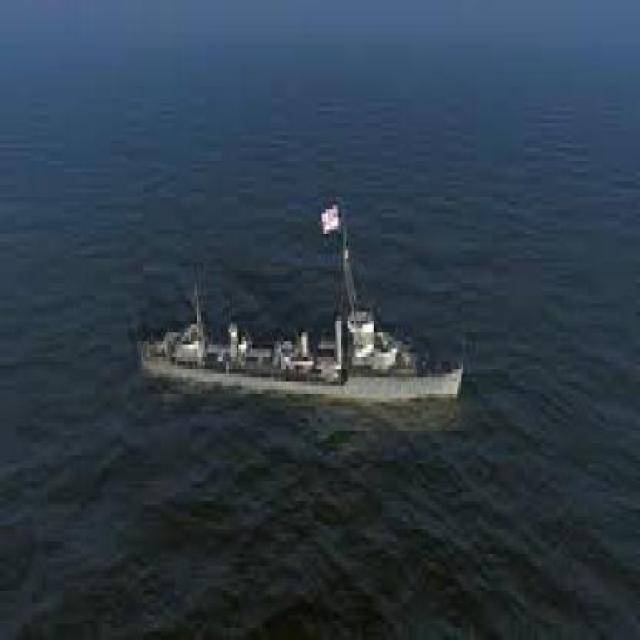warship2: (110, 177, 472, 416)
